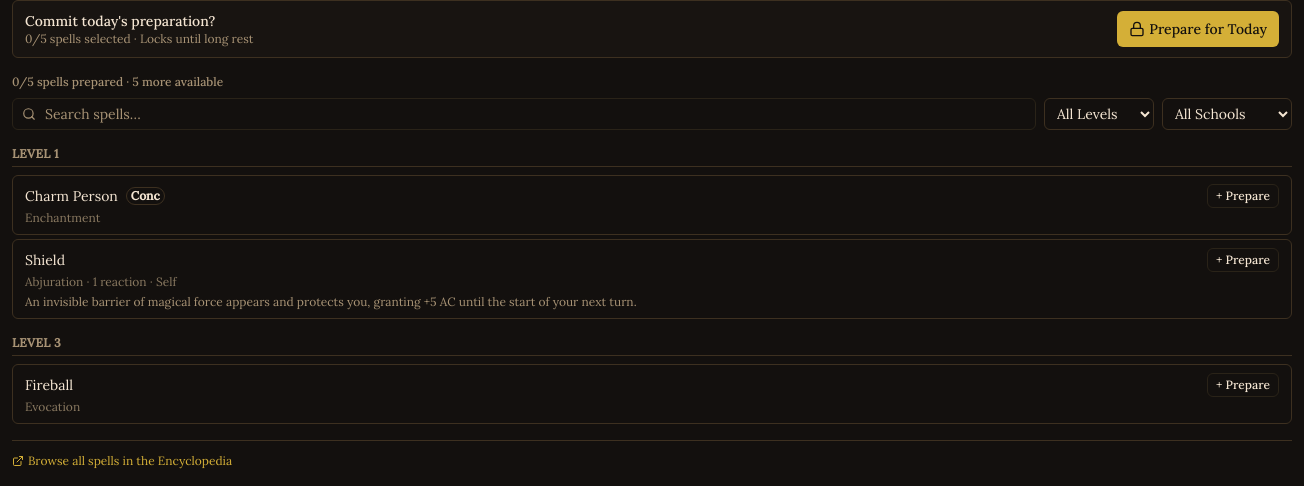
Test: school filter dropdown › narrows the visible spells to the chosen school
Expected: the text "Fireball" is shown, x1=25 y1=375 x2=73 y2=395
Select "Abjuration" in the dropdown with test id "spell-school-filter" at (1227, 114), box x1=1162 y1=98 x2=1292 y2=130
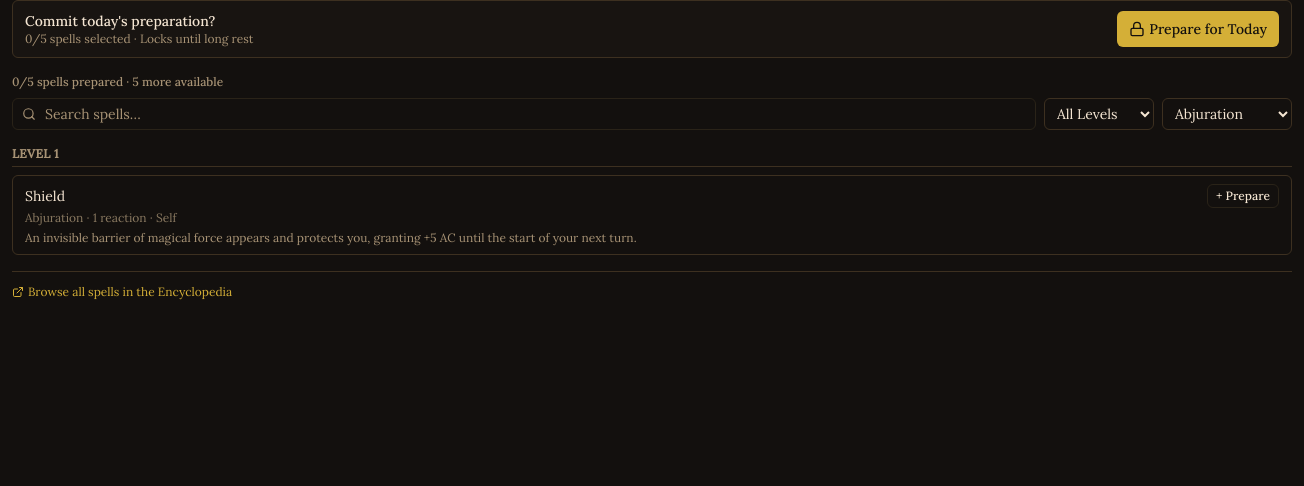
Expected: the text "Shield" is shown, x1=25 y1=186 x2=65 y2=206
Expected: the button "Fireball" is gone
Expected: the button "Charm Person" is gone
Note: Back to All Schools restores the full list.
Select "All Schools" in the dropdown with test id "spell-school-filter" at (1227, 114), box x1=1162 y1=98 x2=1292 y2=130
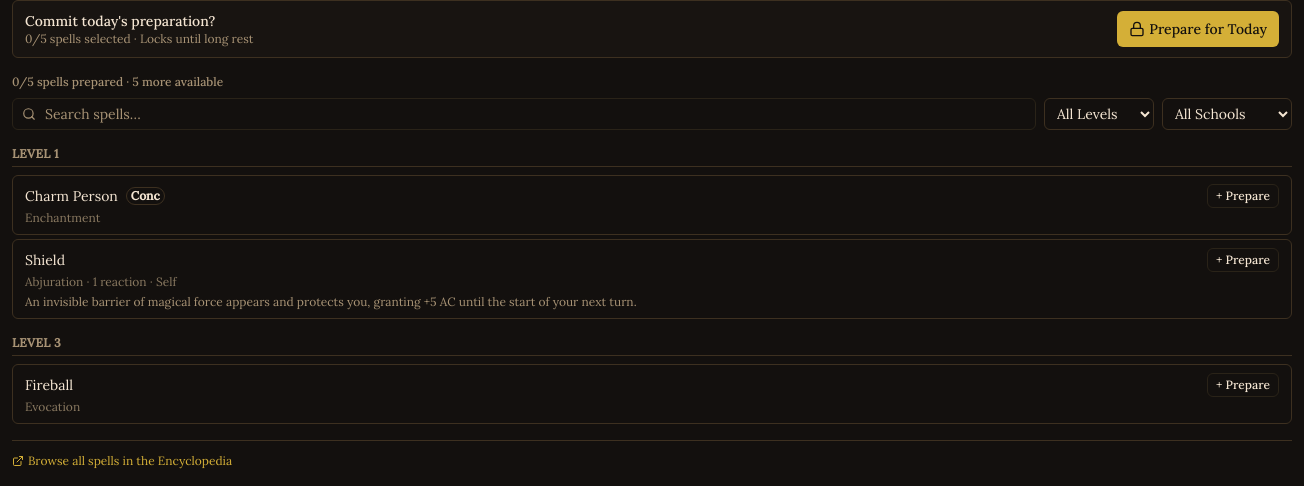
Expected: the text "Fireball" is shown, x1=25 y1=375 x2=73 y2=395
